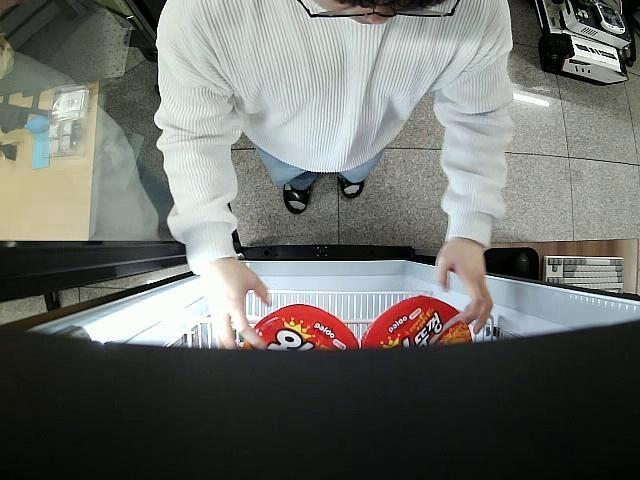10_wangTtukkeong: (238, 302, 359, 352), (364, 296, 474, 350)
